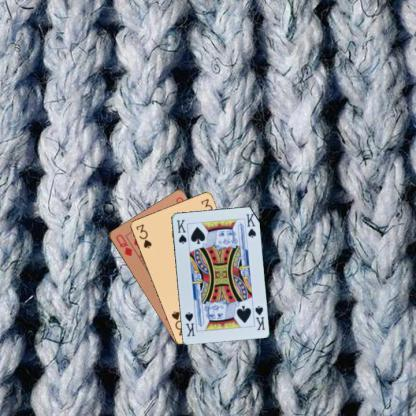3s: (132, 221, 152, 250)
Ks: (174, 216, 188, 246), (252, 302, 266, 332)
Qd: (113, 232, 134, 258)
